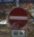No entry: (6, 5, 29, 31)
